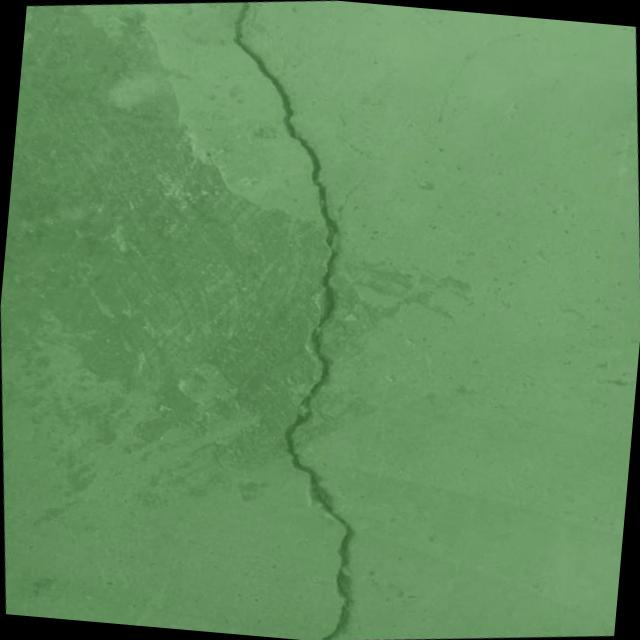crack: (176, 0, 431, 640), (0, 471, 194, 538), (412, 34, 506, 140), (301, 66, 350, 132), (337, 131, 370, 159)
